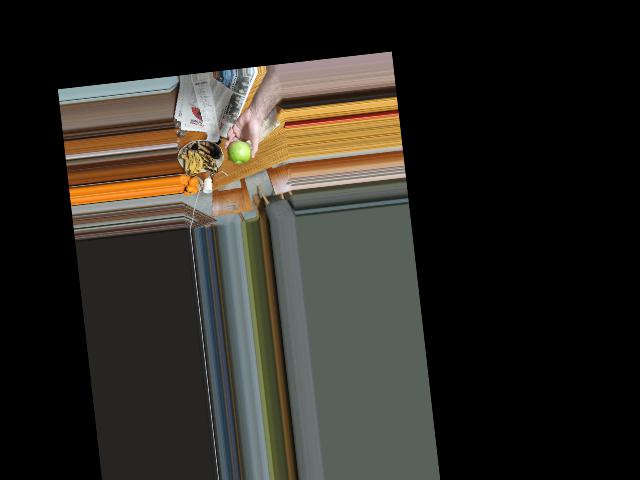apple: (227, 136, 255, 165)
